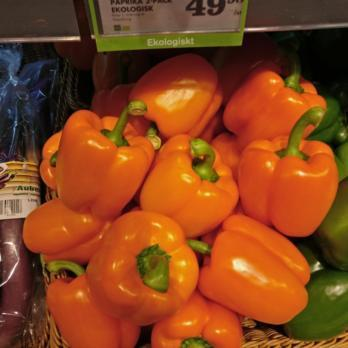Capsicum: (54, 44, 348, 348)
